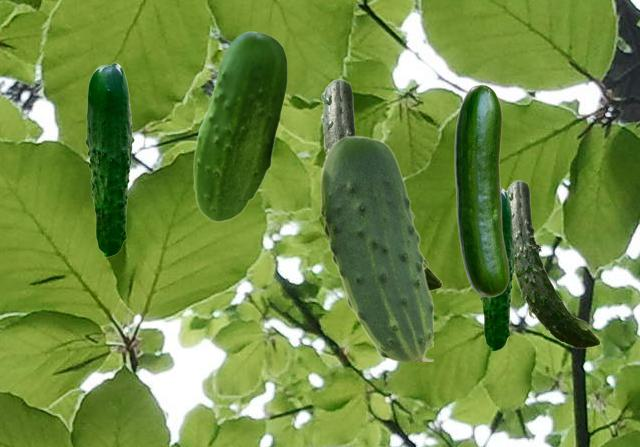cucumber: (320, 79, 441, 291), (320, 135, 432, 360), (193, 31, 286, 221), (506, 180, 599, 347), (454, 84, 508, 296), (85, 62, 133, 256), (479, 187, 515, 350)
